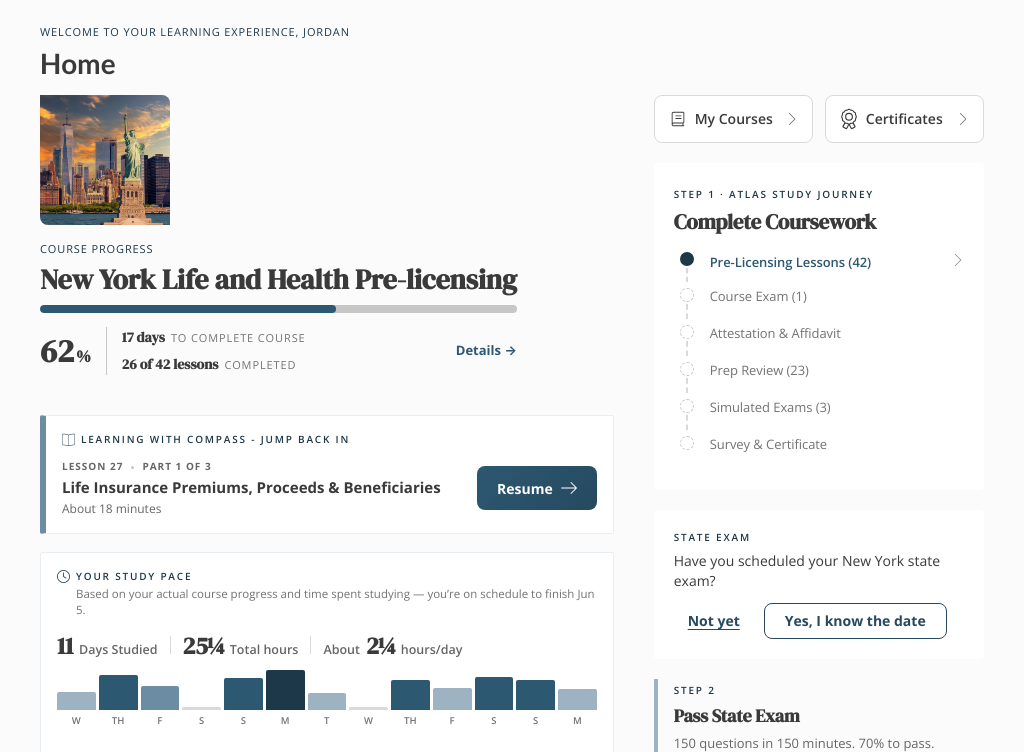
Test case: the player states the course that was opened › expands the completed run on demand, and collapses it again
Click the button "Resume".
click(537, 488)  # box left=477, top=466, right=597, bottom=510
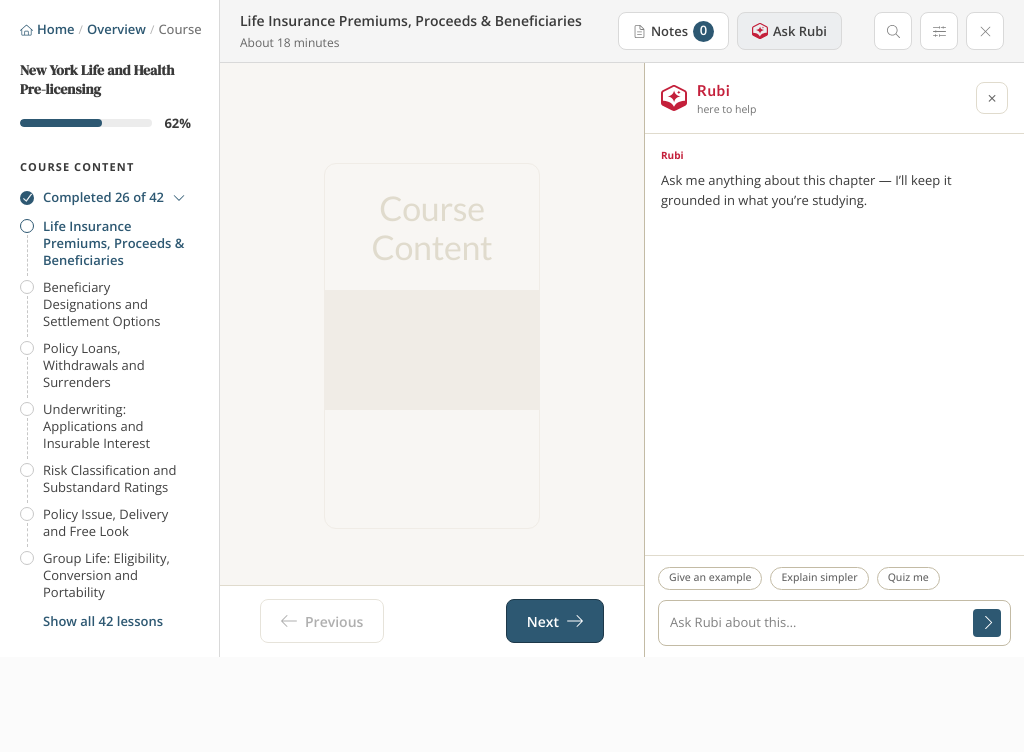
Click the button "Completed 26 of 42".
click(102, 197)  # box left=20, top=186, right=185, bottom=208
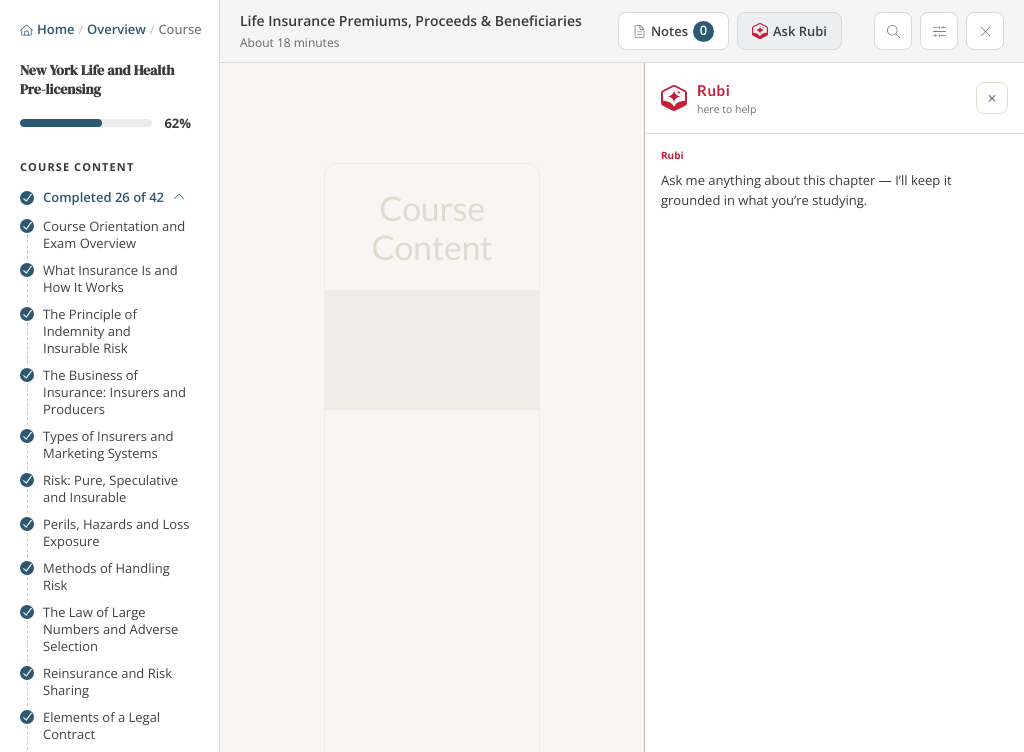
expect the button "Completed 26 of 42" is expanded: met
expect the element named "Course contents" shows "Course Orientation and Exam Overview": met, box left=43, top=216, right=185, bottom=252
Click the button "Completed 26 of 42".
click(102, 197)  # box left=20, top=186, right=185, bottom=208
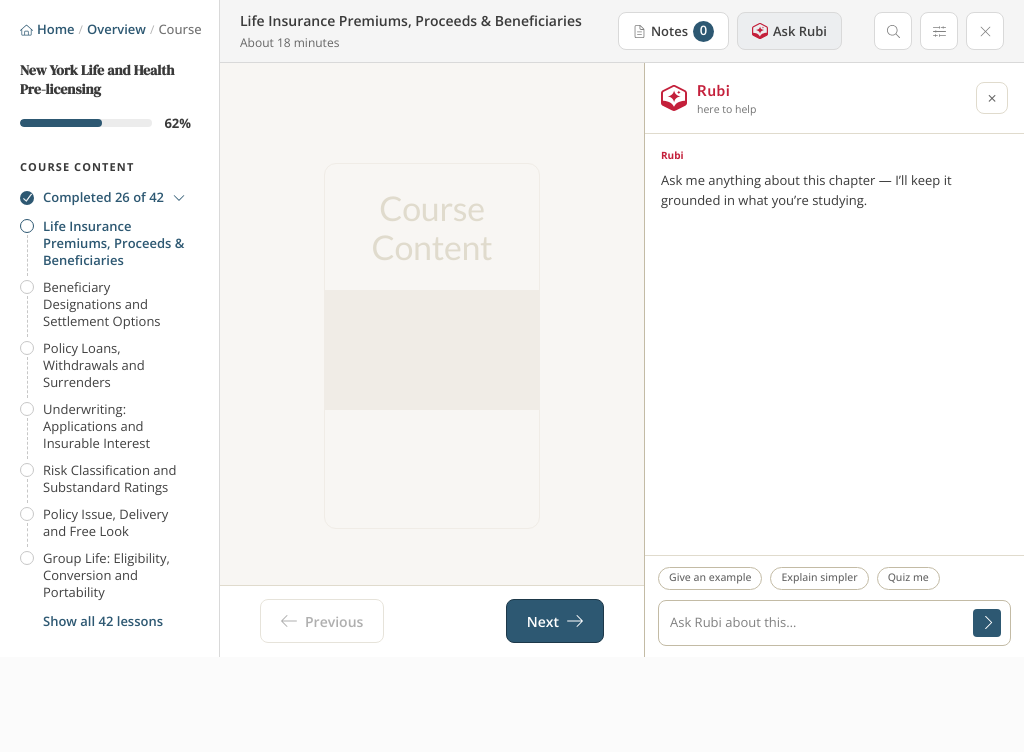
expect the text labelled "Course contents" no longer shows "Course Orientation and Exam Overview": met
